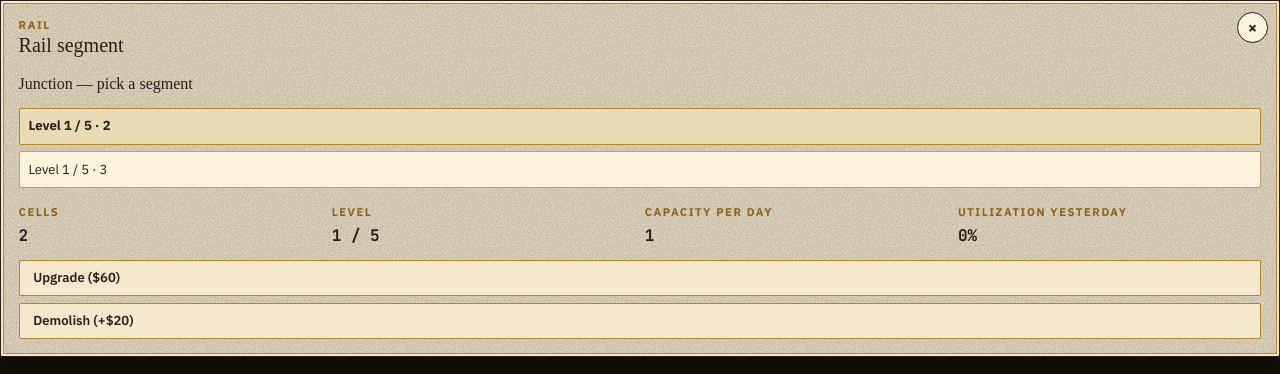
Test case: RailSegmentInspector › renders a segment picker for a junction and switches the displayed segment
Expected: the heading "Junction — pick a segment" is shown, [19,75,193,92]
Expected: the button with test id "rail-segment-option-0" is shown, [19,108,1261,145]
Click the button with test id "rail-segment-option-1": (68, 169) [19,151,1261,188]
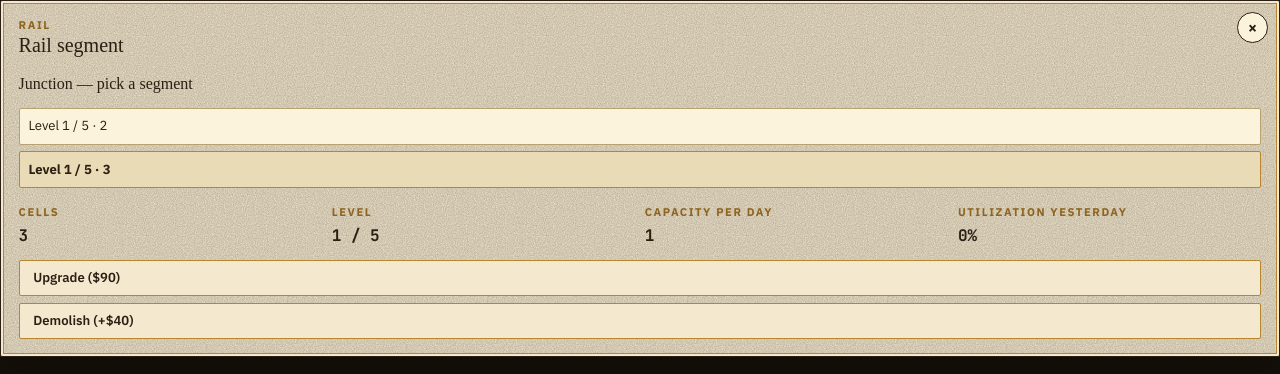
Expected: the text with test id "rail-segment-cells" reads "3", [19,225,28,246]
